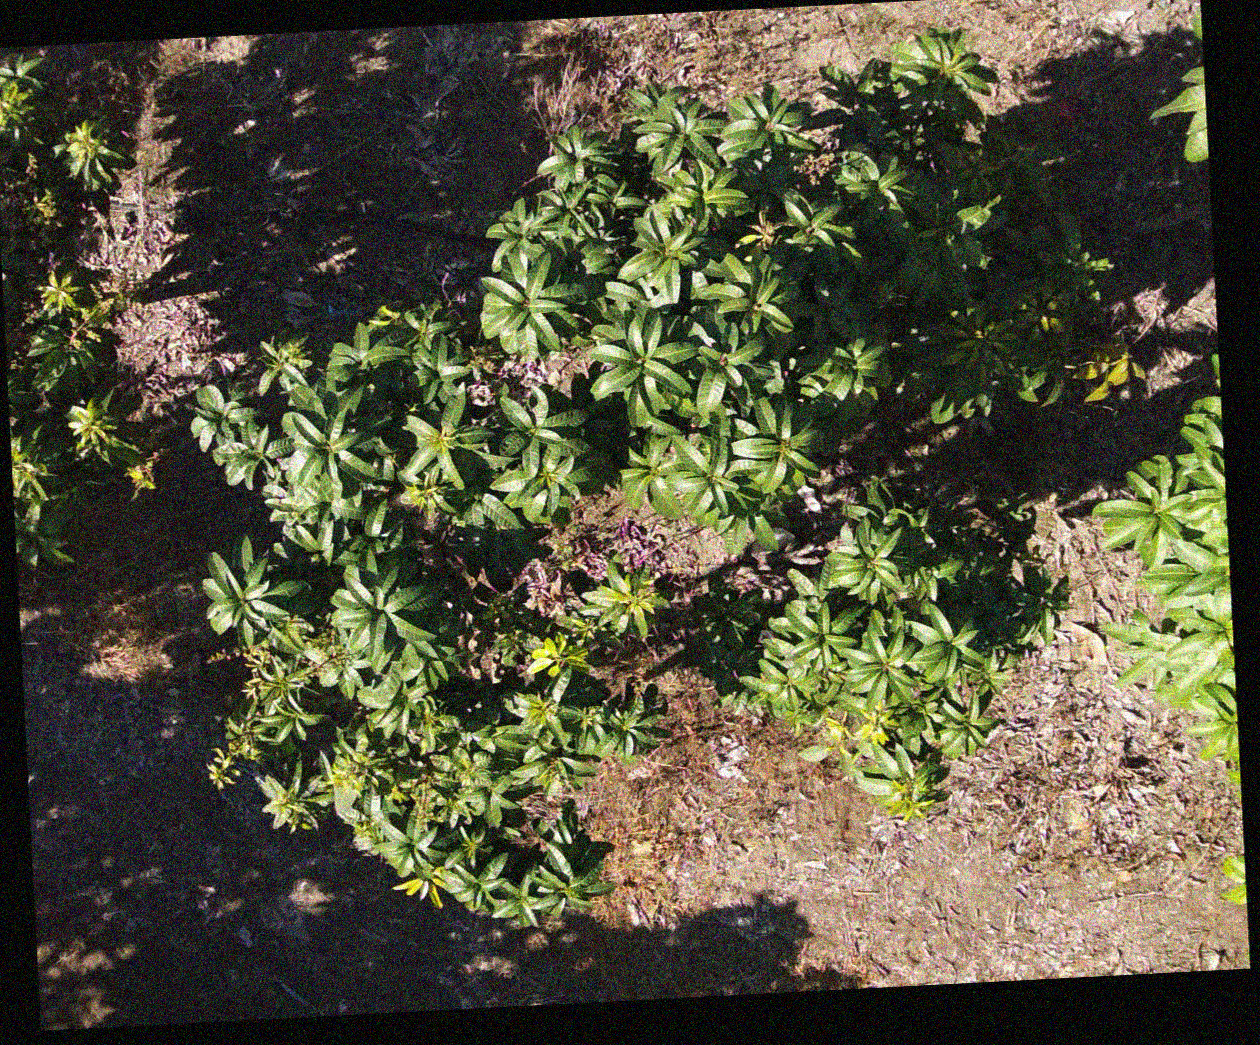flowers: (261, 710, 522, 842), (205, 624, 353, 782), (796, 150, 836, 186)
